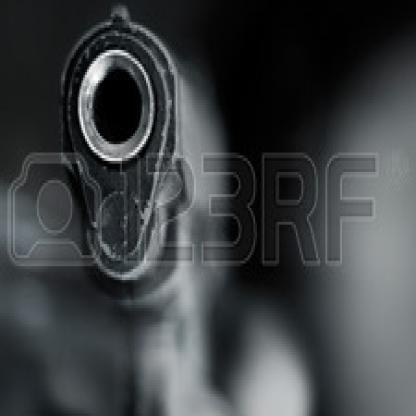gun: (44, 0, 254, 413)
